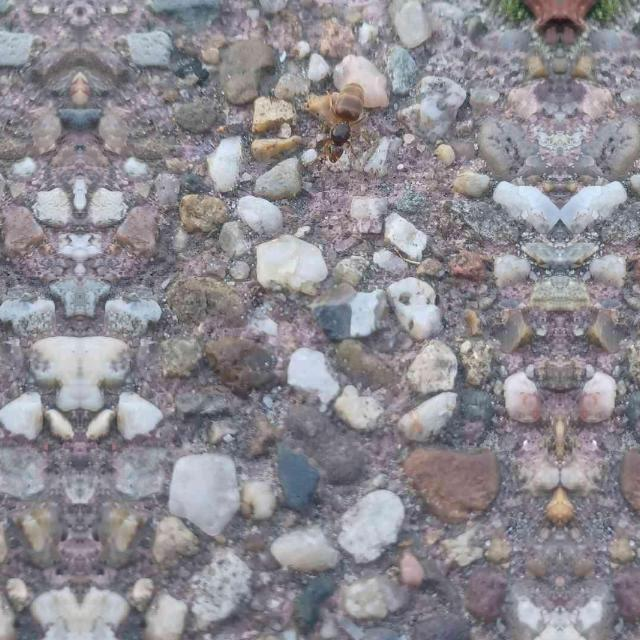Lasius: (313, 76, 367, 166)
